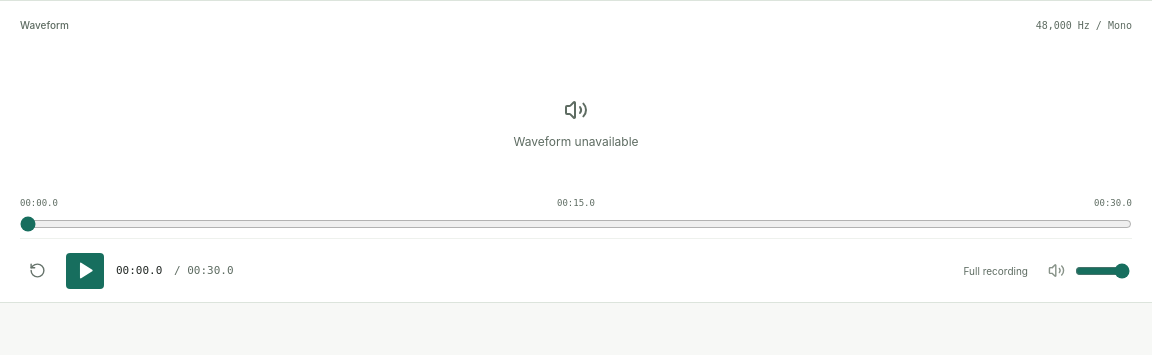
Test: reports playback failure without claiming the audio is playing
The width and height of the screenshot is (1152, 355).
Click the button named "Play" at (85, 270), box [66,252,104,288]
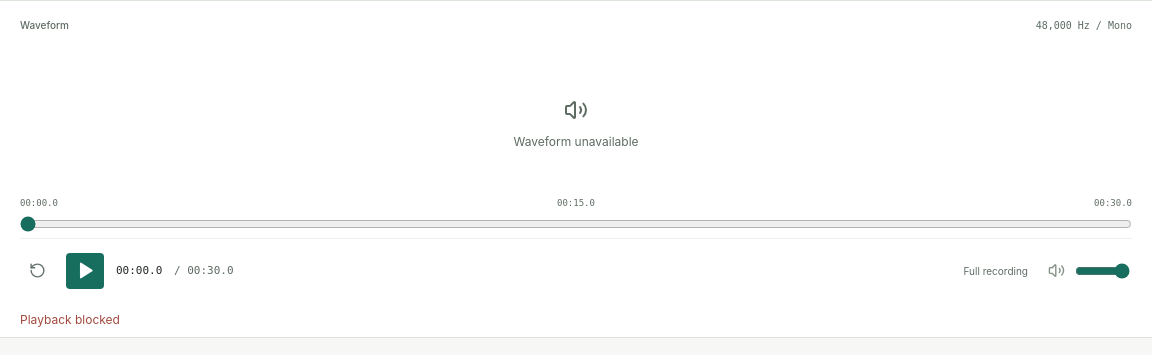
Check: the message "Playback blocked" is shown, box [20,312,120,327]
